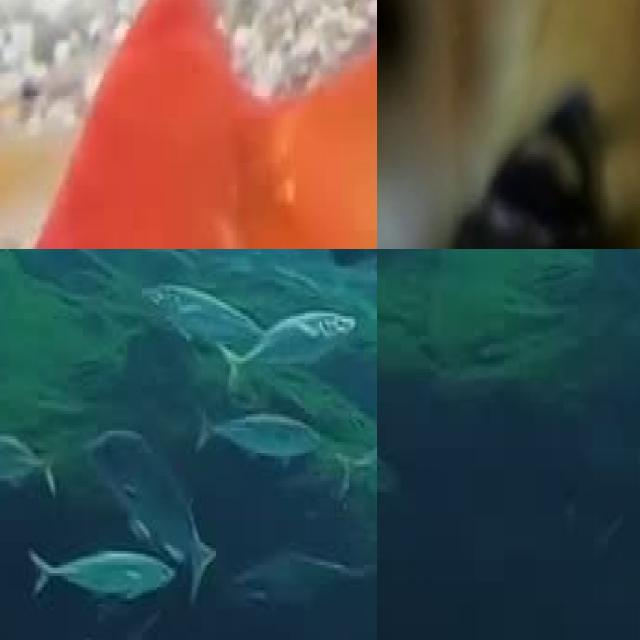fish: (0, 0, 377, 249), (216, 282, 369, 394)
